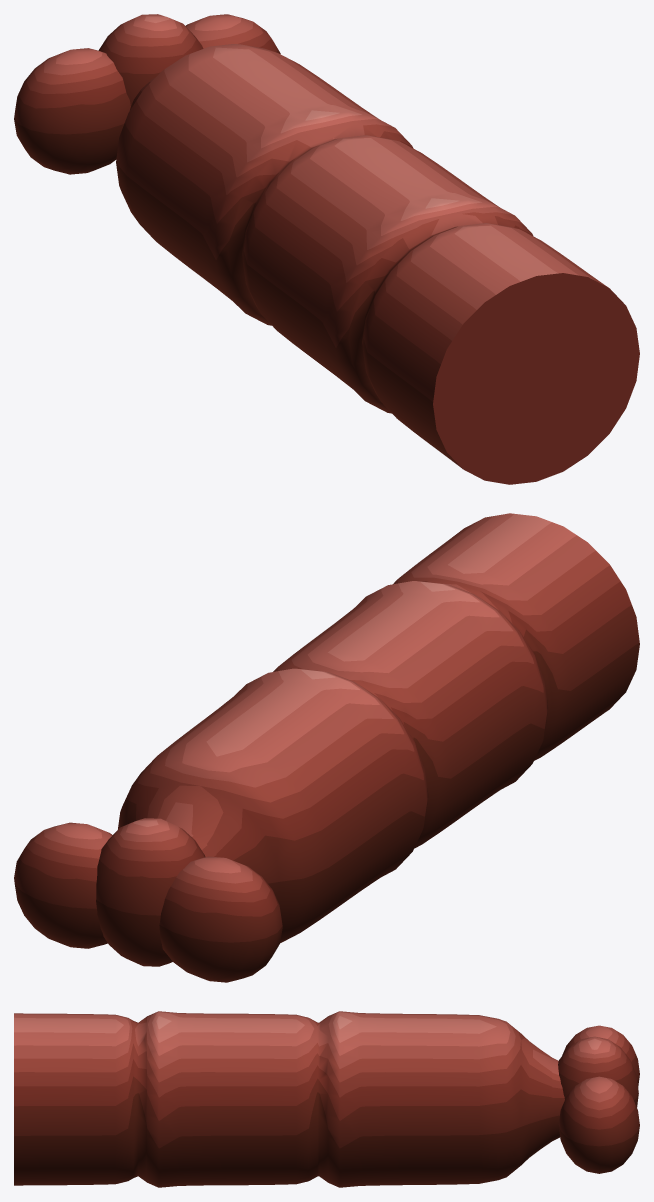
Rendered from coral_worm_t.glb.
3 views of the same model, one above another, from view 1: azimuth 30°, elevation 25°; view 2: azimuth 150°, elevation 25°; view 3: azimuth 270°, elevation 25° (orthographic). The views are drawn at different scales.
Visible parts, largest first — view 1: coral_worm_t; view 2: coral_worm_t; view 3: coral_worm_t.
Boxes of the visible parts, bbox=[...] form: coral_worm_t: bbox=[14, 14, 639, 484]; coral_worm_t: bbox=[14, 513, 639, 982]; coral_worm_t: bbox=[14, 1011, 639, 1187].
Bounding box in the file's own units: 9.95 × 7.75 × 27.7.
